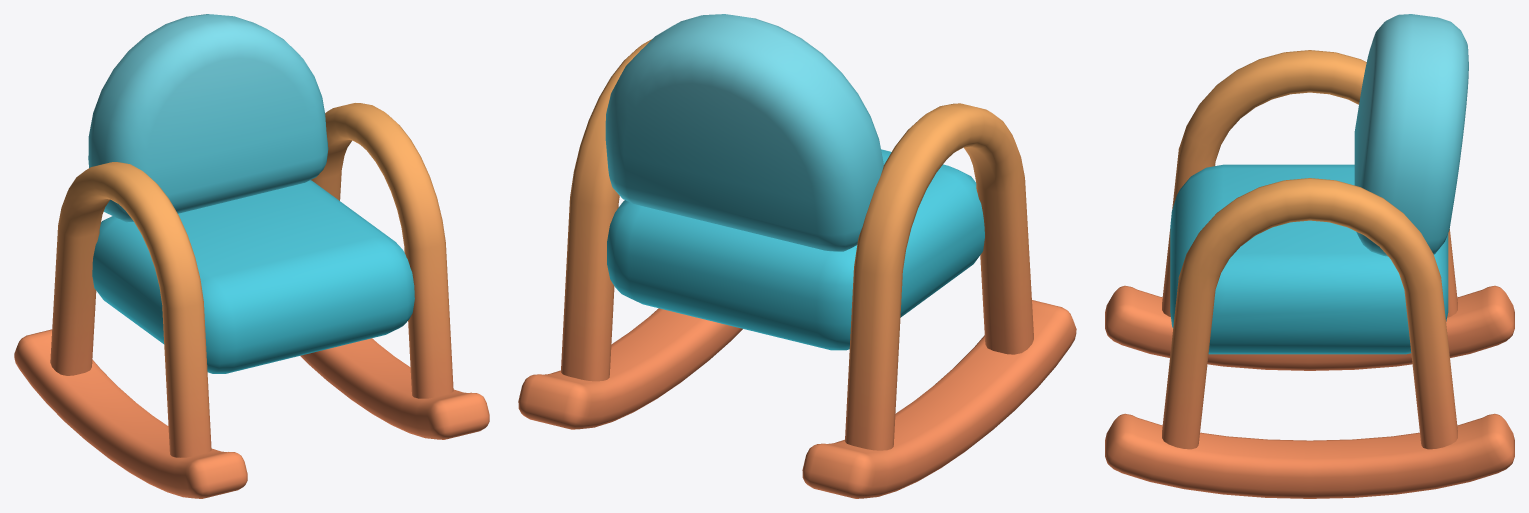
File: Chair_13.glb
3 renders of one model, left to right at view 1: azimuth 30°, elevation 25°; view 2: azimuth 150°, elevation 25°; view 3: azimuth 270°, elevation 25°, orthographic. The views are drawn at different scales.
Parts seen in each view (by area): view 1: Chair_13; view 2: Chair_13; view 3: Chair_13.
Boxes of the visible parts, <box> form: Chair_13: <box>14,14,489,498</box>; Chair_13: <box>518,14,1076,498</box>; Chair_13: <box>1105,14,1514,498</box>.
Bounding box in the file's own units: 0.5196 × 0.6149 × 0.5731.
Materials: 1 (1 with a texture image).
